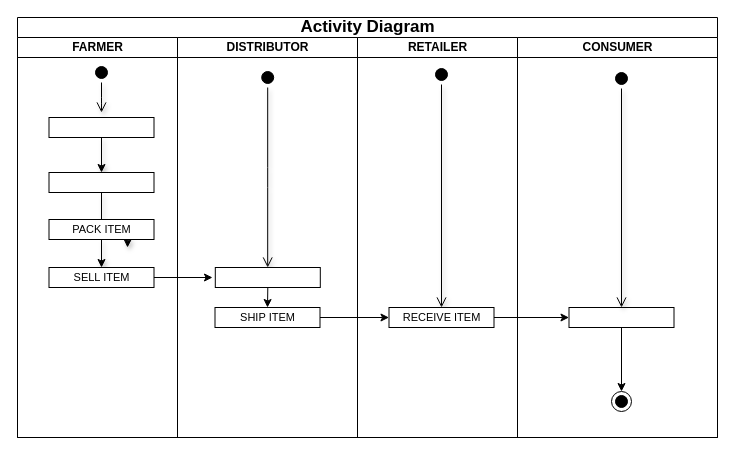
This 735x455 diagram has some shape labels left out. Here are the shapes that lost their labels. From the top down, the centre of each, then its label:
At (x=101, y=127): "HARVEST ITEM".
At (x=101, y=182): "PROCESS ITEM".
At (x=267, y=277): "BUY ITEM".
At (x=621, y=317): "PURCHASE BEAN".
